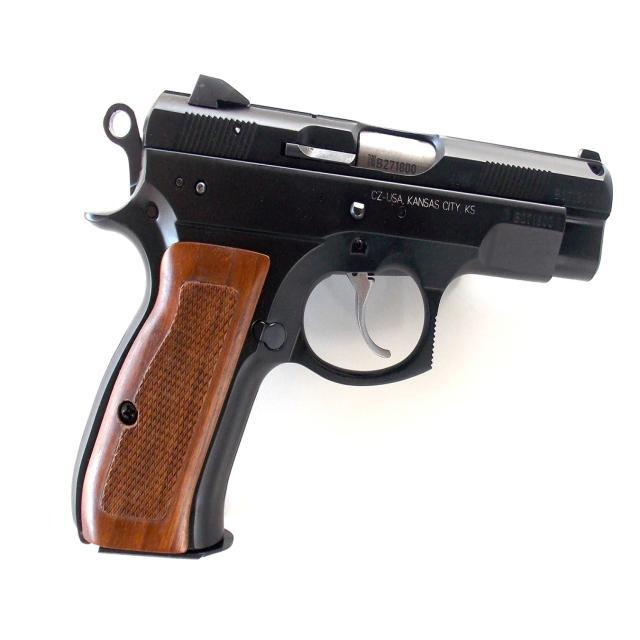Pistol: (65, 49, 635, 580)
